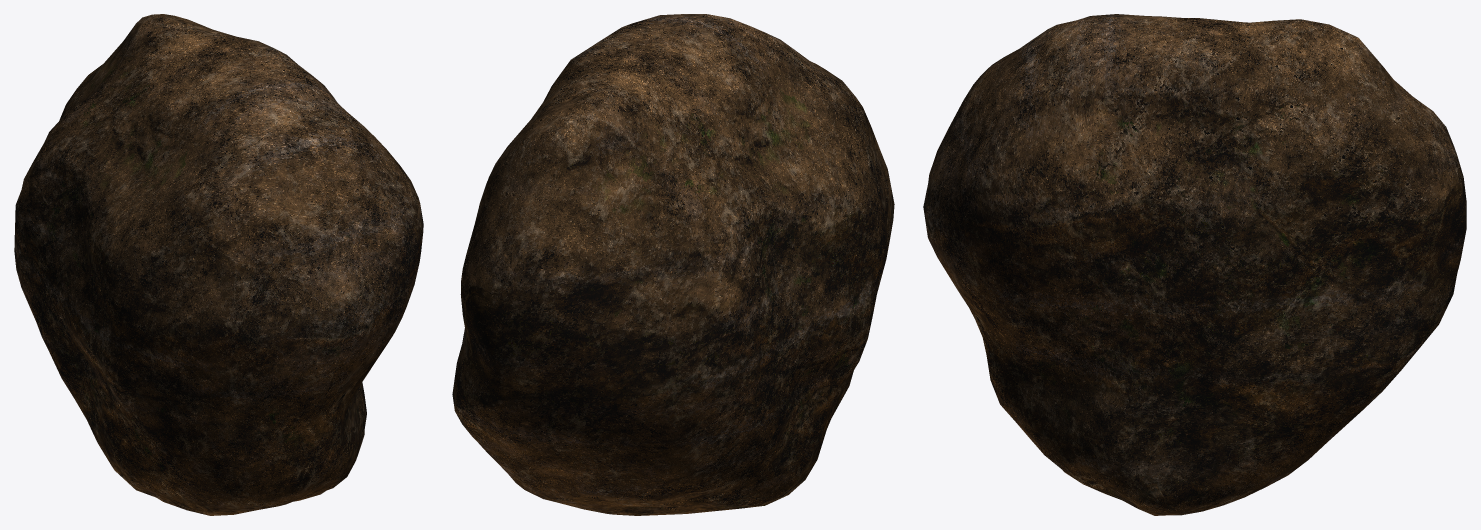
Rendered from SM_TI_Rock_4.gltf.
3 views of the same model, side by side, from view 1: azimuth 30°, elevation 25°; view 2: azimuth 150°, elevation 25°; view 3: azimuth 270°, elevation 25° (orthographic). The views are drawn at different scales.
Visible parts, largest first — view 1: SM_TI_Rock_4; view 2: SM_TI_Rock_4; view 3: SM_TI_Rock_4.
Part boxes in pixels (left/top/right/bottom): SM_TI_Rock_4: left=14, top=14, right=423, bottom=515; SM_TI_Rock_4: left=452, top=14, right=894, bottom=515; SM_TI_Rock_4: left=923, top=14, right=1466, bottom=515.
Bounding box in the file's own units: 10.58 × 15.48 × 16.63.
Materials: 1 (1 with a texture image).
